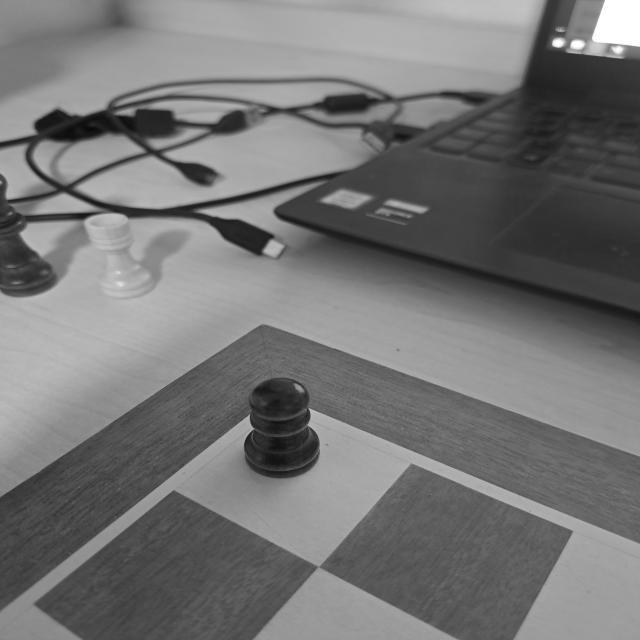chess-table-corners: (222, 388, 352, 435)
